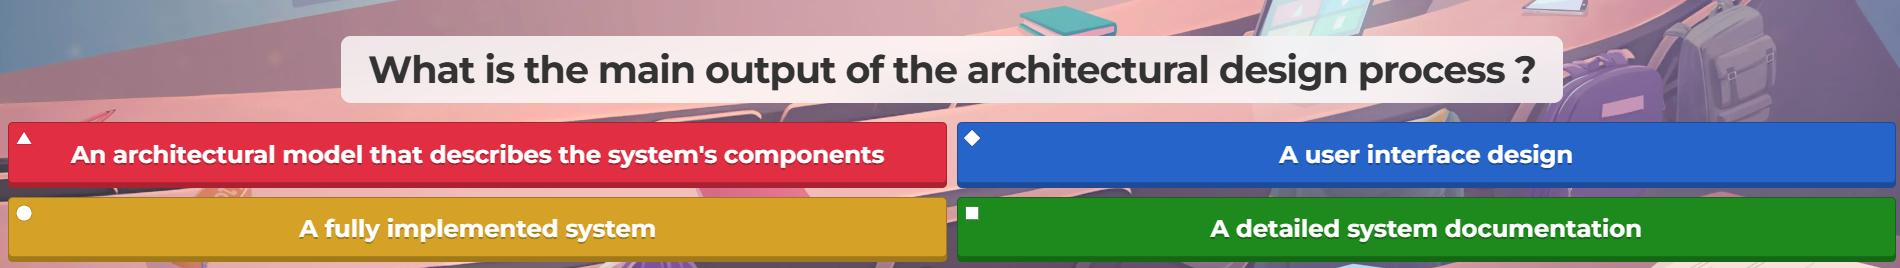answer_blue: (960, 126, 1900, 182)
answer_green: (960, 199, 1895, 256)
answer_red: (8, 124, 945, 184)
answer_yellow: (11, 199, 945, 253)
question_box: (342, 39, 1560, 99)
